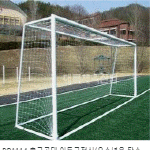goals: (14, 12, 141, 139)
